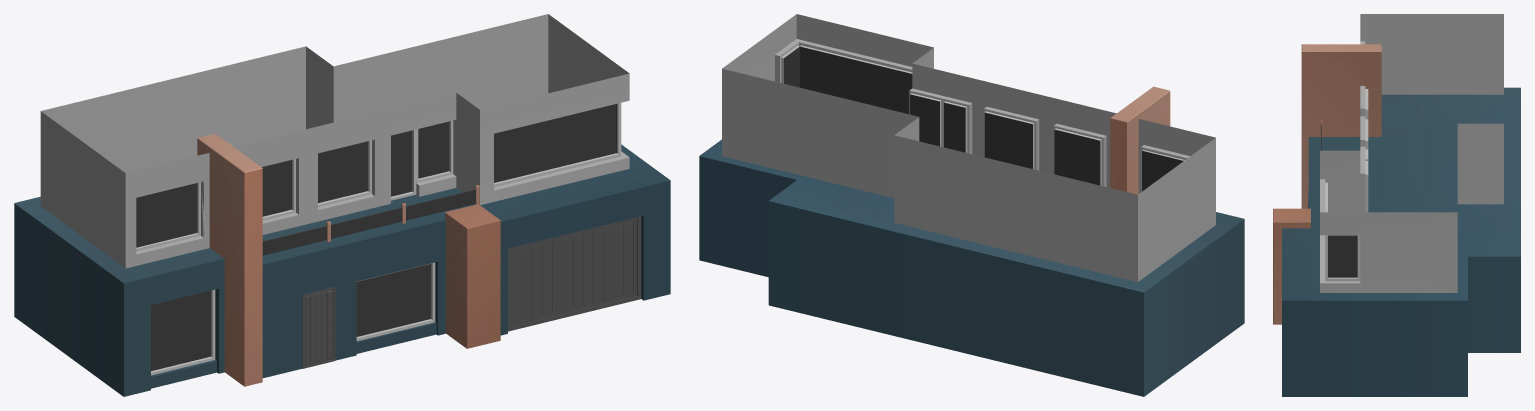
File: Casa3.obj
3 renders of one model, left to right at view 1: azimuth 30°, elevation 25°; view 2: azimuth 150°, elevation 25°; view 3: azimuth 270°, elevation 25°, orthographic. The views are drawn at different scales.
Parts seen in each view (by area): view 1: Casa3; view 2: Casa3; view 3: Casa3.
Part boxes in pixels (bbox=[...]): Casa3: bbox=[14, 14, 670, 396]; Casa3: bbox=[699, 14, 1244, 396]; Casa3: bbox=[1273, 14, 1520, 396].
Size of the model in its own units: 15.2 by 6.04 by 7.47.
1 material, 1 textured.
